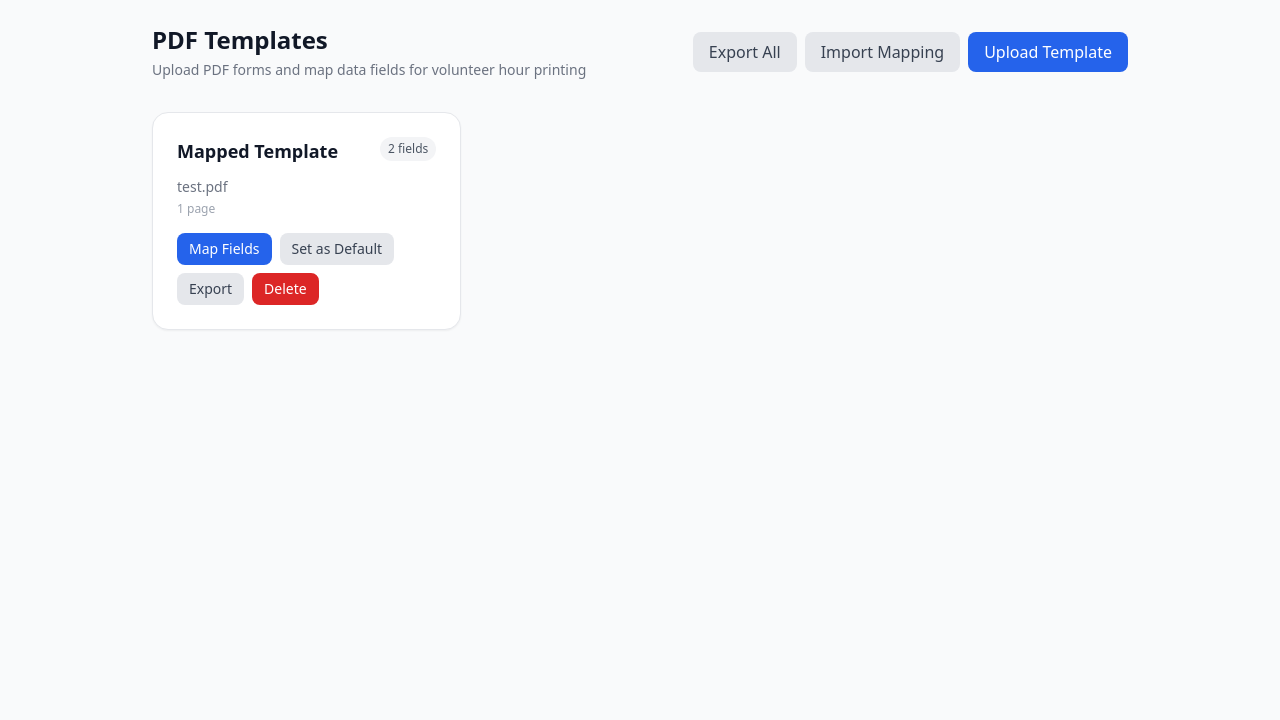
Test: PdfTemplatesPage › field mapper modal › should display existing mapped fields
The image size is (1280, 720).
Click the button "Map Fields" at (224, 249), box [177,233,272,265]
(page scrolled)
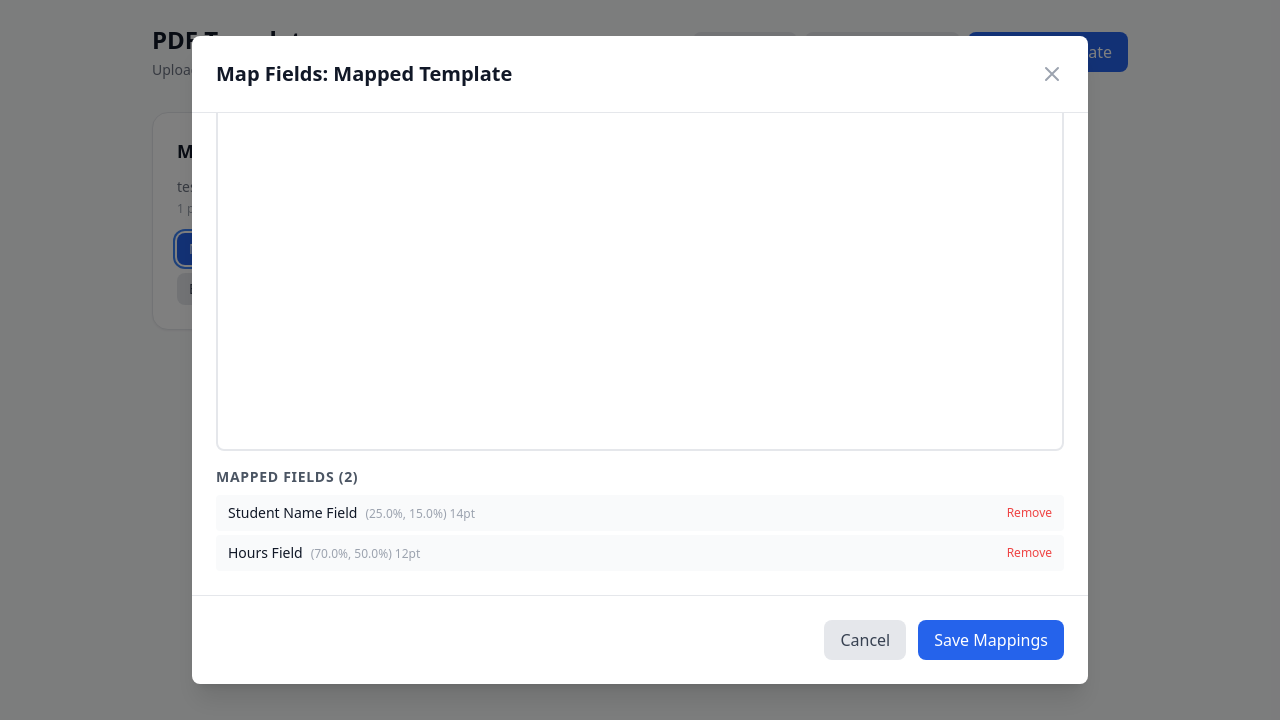
Now the heading "Mapped Fields (2)" is shown, box [216,467,358,486]
